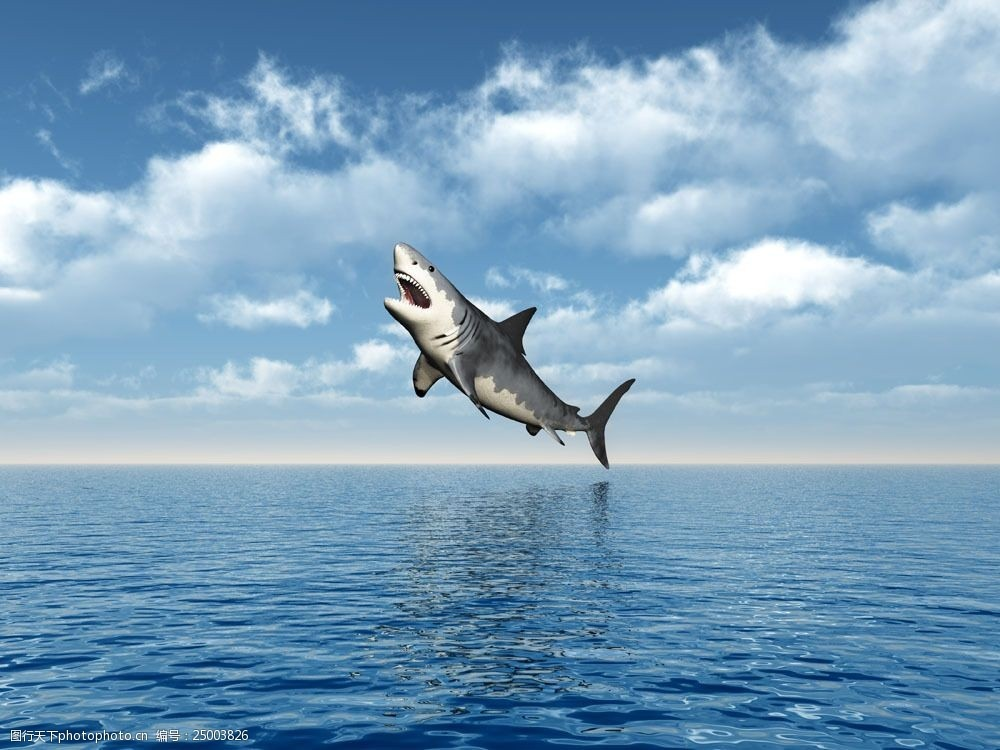fish: (381, 240, 638, 475)
